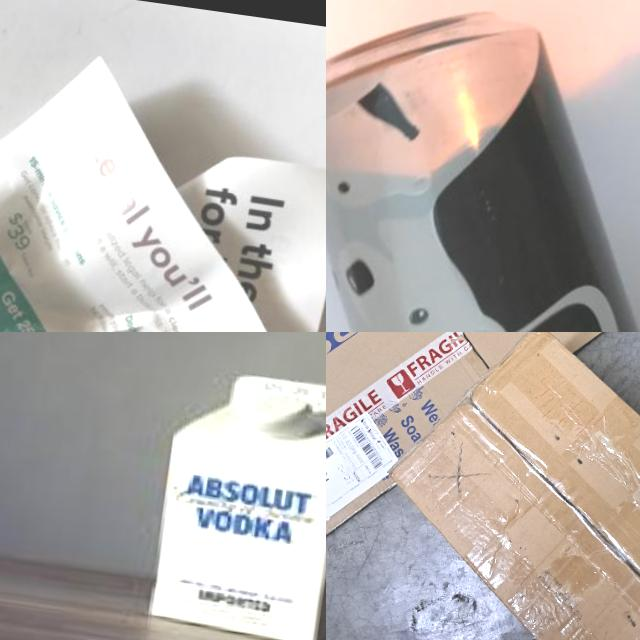caixinha: (147, 366, 326, 640)
lata: (326, 0, 640, 332)
papel: (0, 27, 326, 332)
papelão: (362, 332, 640, 640), (326, 332, 640, 591)
tampa plástica: (232, 387, 314, 440)
